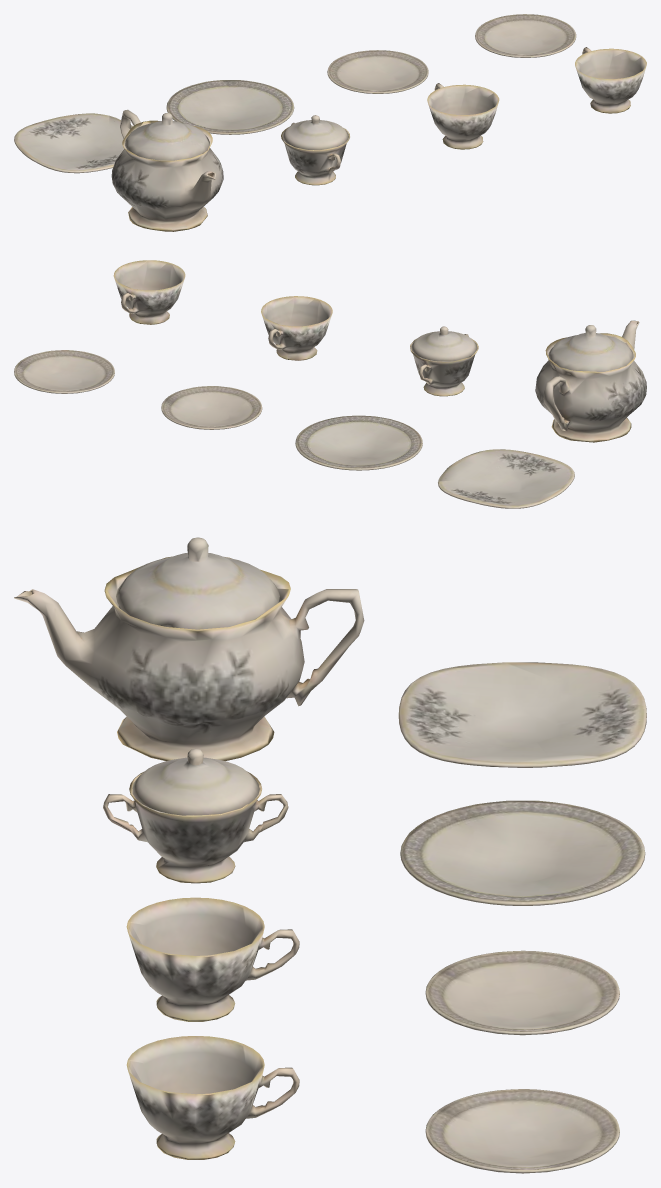
Rendered from tea_set_01.glb.
3 renders of one model, top to bottom at view 1: azimuth 30°, elevation 25°; view 2: azimuth 150°, elevation 25°; view 3: azimuth 270°, elevation 25°, orthographic. The views are drawn at different scales.
Visible parts, largest first — view 1: tea_set_01_teapot_01, tea_set_01_plate_large_circular_03, tea_set_01_plate_large_square_01, tea_set_01_saucer_circular_03, tea_set_01_saucer_circular_04, tea_set_01_cup_small_02, tea_set_01_cup_small_01, tea_set_01_teapot_01_lid, tea_set_01_sugar_cup_01, tea_set_01_sugar_cup_01_lid; view 2: tea_set_01_teapot_01, tea_set_01_plate_large_square_01, tea_set_01_plate_large_circular_03, tea_set_01_saucer_circular_04, tea_set_01_cup_small_02, tea_set_01_saucer_circular_03, tea_set_01_cup_small_01, tea_set_01_teapot_01_lid, tea_set_01_sugar_cup_01, tea_set_01_sugar_cup_01_lid; view 3: tea_set_01_teapot_01, tea_set_01_plate_large_square_01, tea_set_01_plate_large_circular_03, tea_set_01_cup_small_01, tea_set_01_cup_small_02, tea_set_01_saucer_circular_03, tea_set_01_saucer_circular_04, tea_set_01_teapot_01_lid, tea_set_01_sugar_cup_01, tea_set_01_sugar_cup_01_lid.
Boxes of the visible parts, x1=… form: tea_set_01_teapot_01: x1=111, y1=109, x2=223, y2=231; tea_set_01_plate_large_circular_03: x1=166, y1=80, x2=294, y2=134; tea_set_01_plate_large_square_01: x1=14, y1=113, x2=133, y2=173; tea_set_01_saucer_circular_03: x1=475, y1=14, x2=576, y2=57; tea_set_01_saucer_circular_04: x1=327, y1=50, x2=428, y2=93; tea_set_01_cup_small_02: x1=575, y1=47, x2=646, y2=113; tea_set_01_cup_small_01: x1=427, y1=83, x2=499, y2=149; tea_set_01_teapot_01_lid: x1=125, y1=112, x2=209, y2=160; tea_set_01_sugar_cup_01: x1=281, y1=122, x2=349, y2=185; tea_set_01_sugar_cup_01_lid: x1=282, y1=115, x2=348, y2=149; tea_set_01_teapot_01: x1=535, y1=320, x2=646, y2=442; tea_set_01_plate_large_square_01: x1=438, y1=449, x2=574, y2=508; tea_set_01_plate_large_circular_03: x1=295, y1=415, x2=422, y2=470; tea_set_01_saucer_circular_04: x1=161, y1=386, x2=262, y2=429; tea_set_01_cup_small_02: x1=113, y1=260, x2=185, y2=324; tea_set_01_saucer_circular_03: x1=14, y1=350, x2=114, y2=393; tea_set_01_cup_small_01: x1=261, y1=296, x2=332, y2=360; tea_set_01_teapot_01_lid: x1=548, y1=325, x2=633, y2=371; tea_set_01_sugar_cup_01: x1=410, y1=334, x2=478, y2=396; tea_set_01_sugar_cup_01_lid: x1=411, y1=326, x2=477, y2=361; tea_set_01_teapot_01: x1=14, y1=556, x2=364, y2=760; tea_set_01_plate_large_square_01: x1=398, y1=662, x2=646, y2=767; tea_set_01_plate_large_circular_03: x1=400, y1=800, x2=645, y2=905; tea_set_01_cup_small_01: x1=126, y1=897, x2=299, y2=1021; tea_set_01_cup_small_02: x1=126, y1=1036, x2=299, y2=1159; tea_set_01_saucer_circular_03: x1=425, y1=1089, x2=619, y2=1173; tea_set_01_saucer_circular_04: x1=425, y1=950, x2=619, y2=1035; tea_set_01_teapot_01_lid: x1=116, y1=537, x2=279, y2=629; tea_set_01_sugar_cup_01: x1=103, y1=771, x2=288, y2=883; tea_set_01_sugar_cup_01_lid: x1=132, y1=748, x2=259, y2=815.
Size of the model in its own units: 0.9183 by 0.1647 by 0.4838.
Materials: 1 (1 with a texture image).
